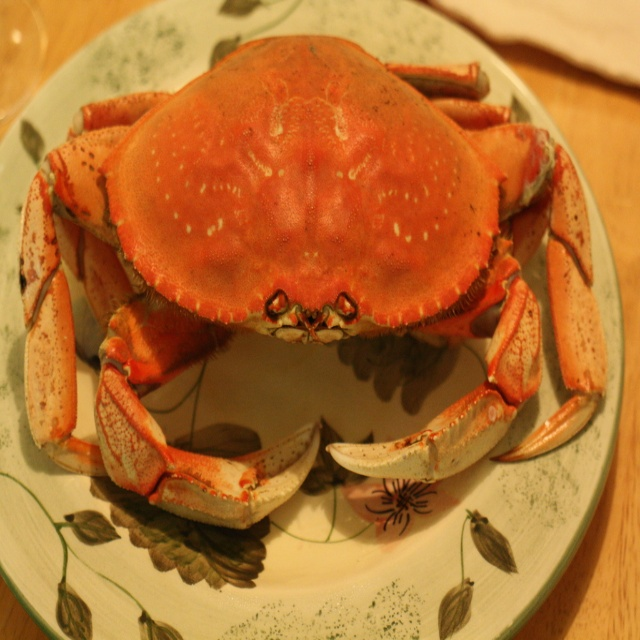Crab: (16, 27, 608, 537)
